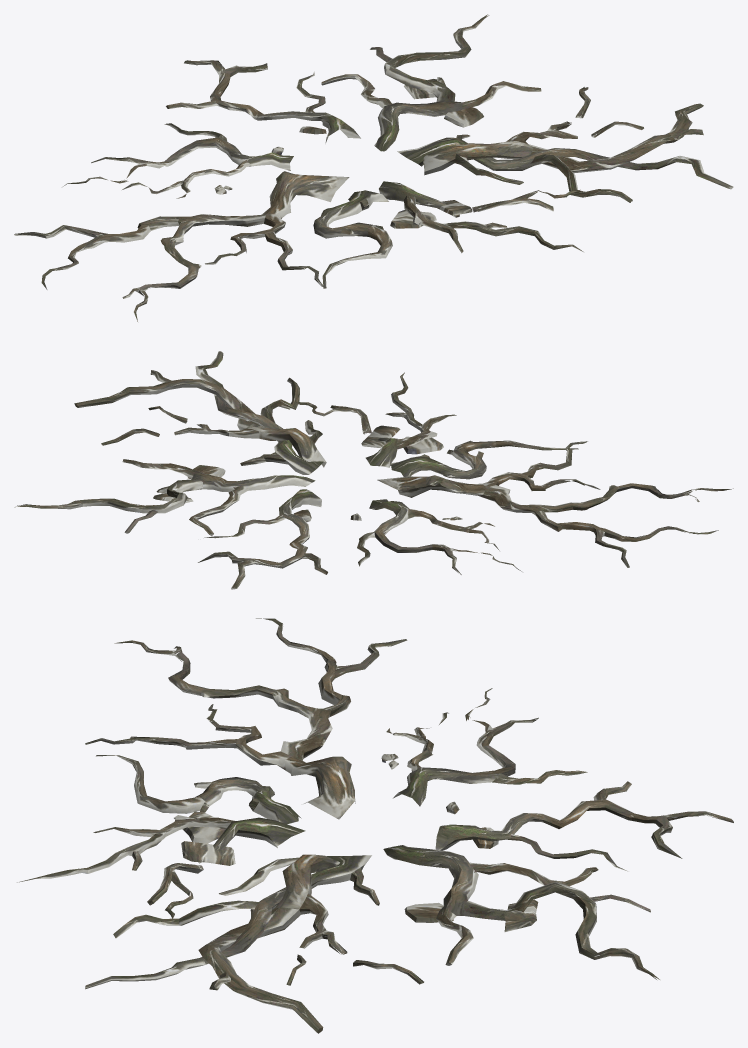
File: 5015_Item_shuteng_1.FBX
The picture shows the model from 3 angles, top to bottom: view 1: azimuth 30°, elevation 25°; view 2: azimuth 150°, elevation 25°; view 3: azimuth 270°, elevation 25°; orthographic projection. The views are drawn at different scales.
Parts seen in each view (by area): view 1: 5015_Item_shuteng_1; view 2: 5015_Item_shuteng_1; view 3: 5015_Item_shuteng_1.
Part boxes in pixels (x1,y1,x2,y2): 5015_Item_shuteng_1: (14, 14, 733, 321); 5015_Item_shuteng_1: (14, 351, 733, 589); 5015_Item_shuteng_1: (17, 618, 733, 1033).
Size of the model in its own units: 2697 by 114 by 2010.
